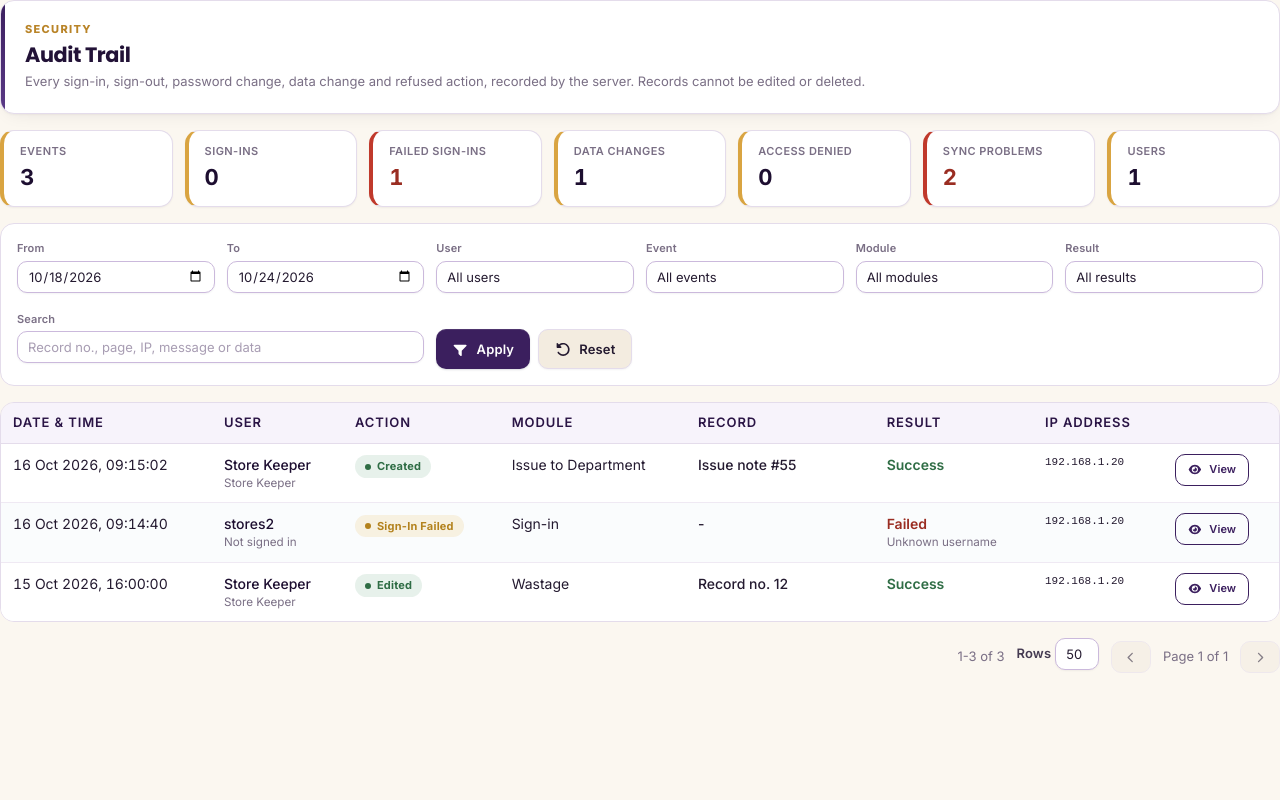
the detail view explains a new record in plain words
Step 1. Click the button with aria-label "View details of event 7" → (1212, 470), box [1174, 454, 1249, 486]
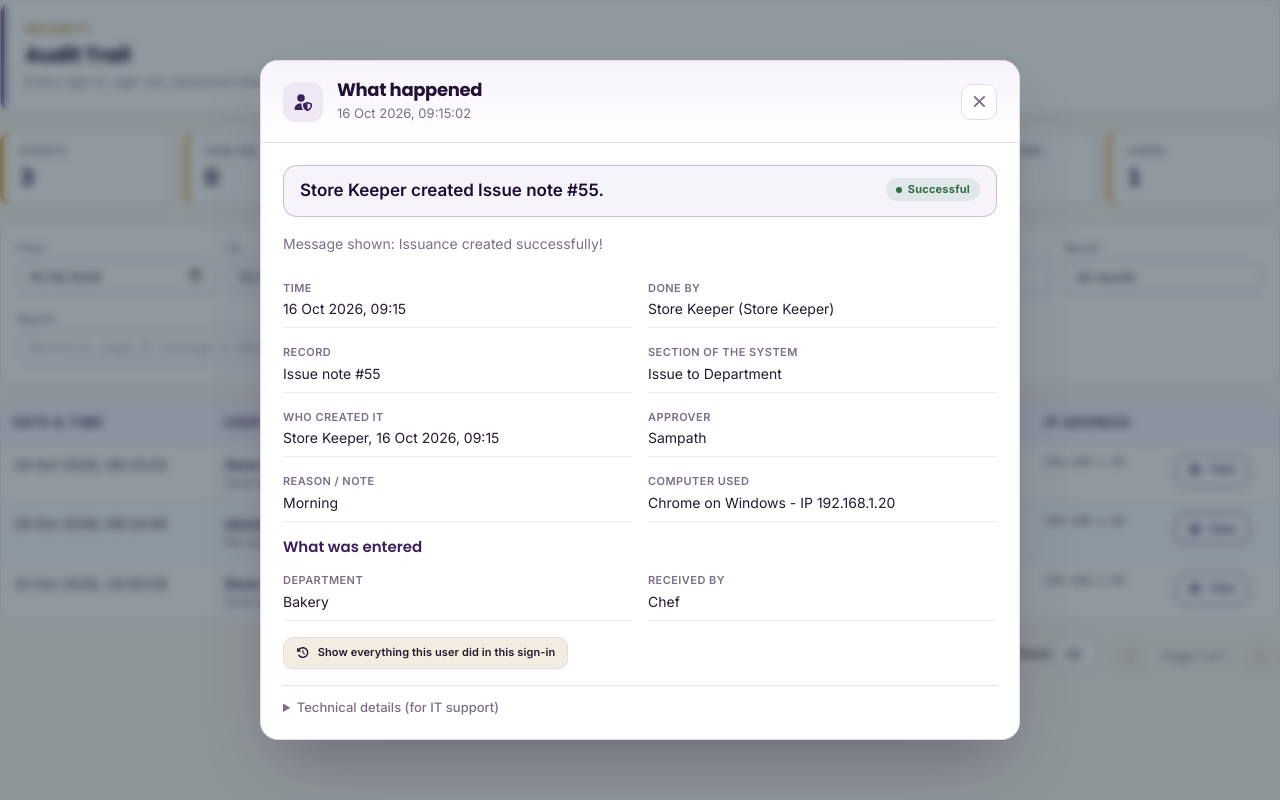
expect the text "Store Keeper created Issue note #55." is shown: met, box [300, 178, 604, 204]
expect the text "16 Oct 2026, 09:15" is shown: met, box [283, 300, 406, 317]
expect the text "Store Keeper (Store Keeper)" is shown: met, box [648, 300, 834, 317]
Step 2. Click the button "Show everything this user did in this sign-in" → (426, 653), box [283, 637, 568, 669]
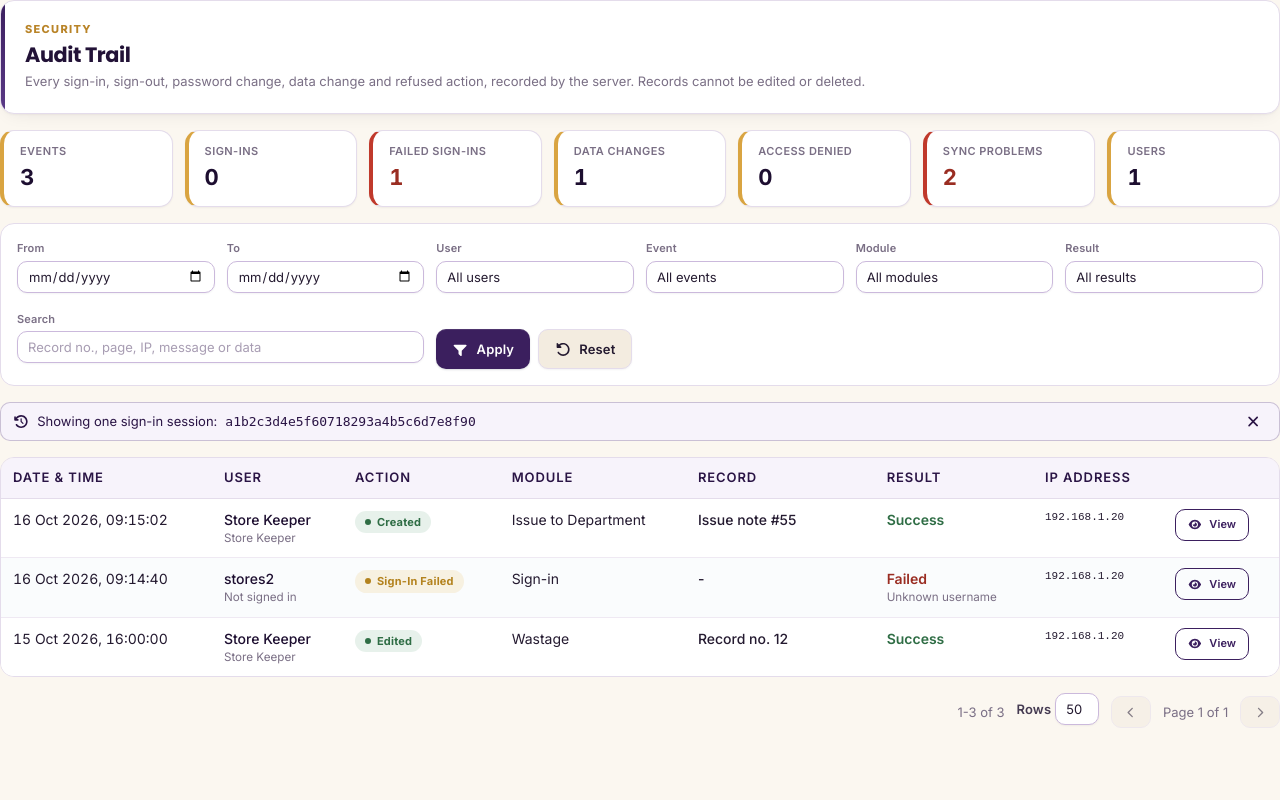
expect the text "a1b2c3d4e5f60718293a4b5c6d7e8f90" is shown: met, box [225, 412, 476, 432]
